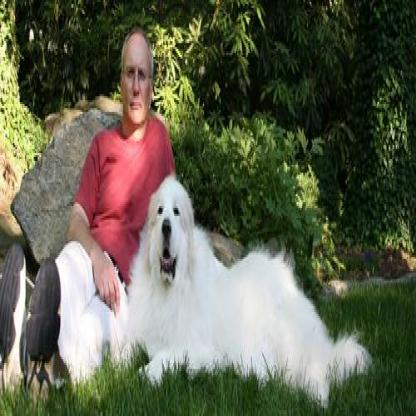Great_Pyrenees: (117, 177, 372, 408)
